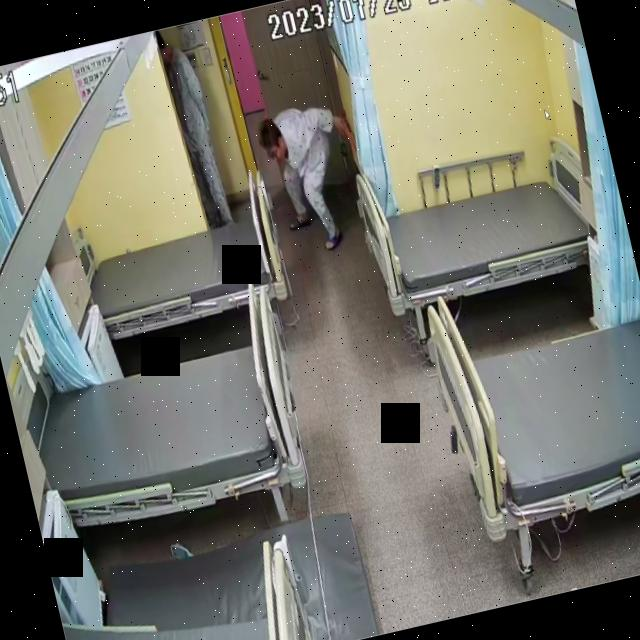bed: (418, 252, 640, 540), (21, 327, 312, 535), (356, 149, 611, 318), (82, 202, 288, 340)
danger: (251, 89, 372, 257)
patient: (252, 88, 371, 254), (152, 22, 236, 230)
stand: (152, 22, 235, 229)
